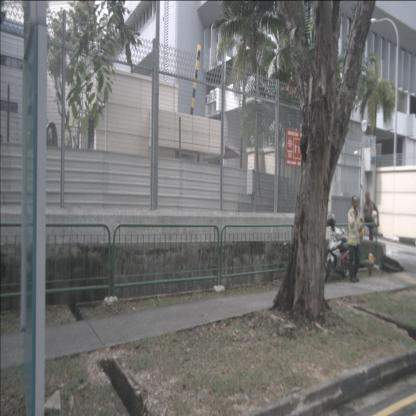vehicle-motorcycle: (324, 213, 353, 282)
